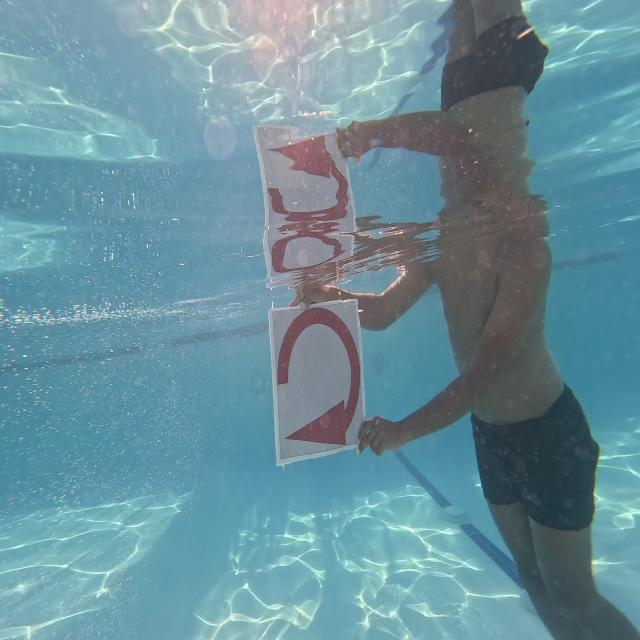red_side: (269, 303, 366, 456)
